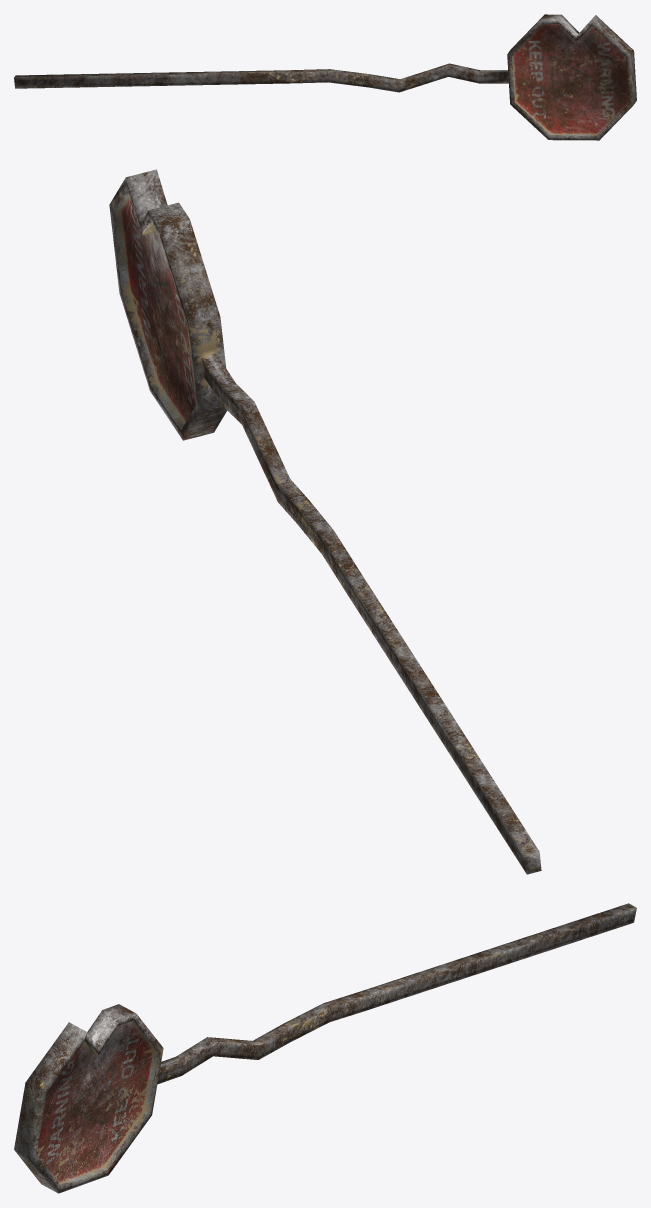
File: Anim_idle_senyal_objetos.0040.obj
3 views of the same model, one above another, from view 1: azimuth 30°, elevation 25°; view 2: azimuth 150°, elevation 25°; view 3: azimuth 270°, elevation 25° (orthographic). The views are drawn at different scales.
Bounding box in the file's own units: 9.52 × 2.59 × 8.5.
